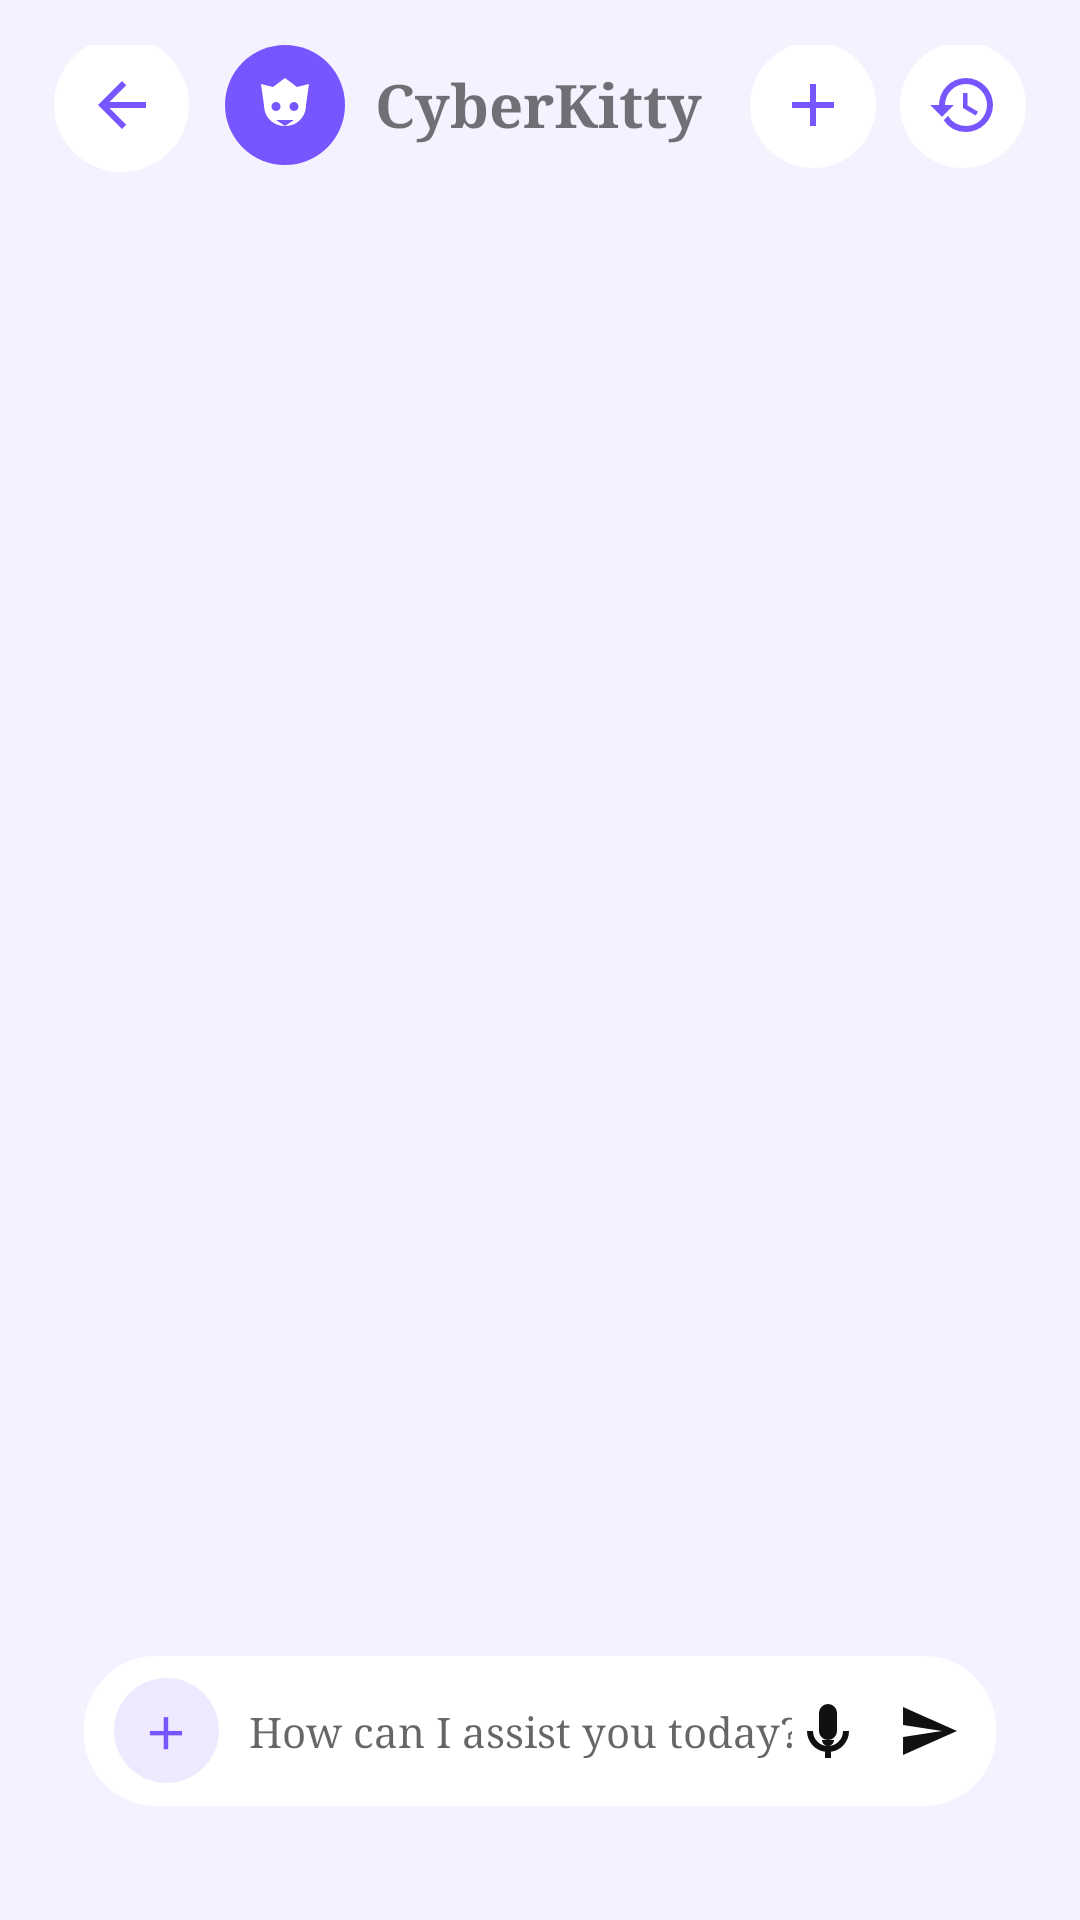

Icon bounding boxes for this 1080 x 1920 phone screenshot, format [x1=x1, y1=y1, x2=x2, y2=y2]:
Back: [x1=54, y1=45, x2=189, y2=172]
cat: [x1=225, y1=45, x2=345, y2=165]
Chat History: [x1=900, y1=45, x2=1026, y2=168]
Microphone: [x1=807, y1=1704, x2=849, y2=1758]
New Chat: [x1=750, y1=45, x2=876, y2=168]
Send: [x1=903, y1=1707, x2=957, y2=1755]
